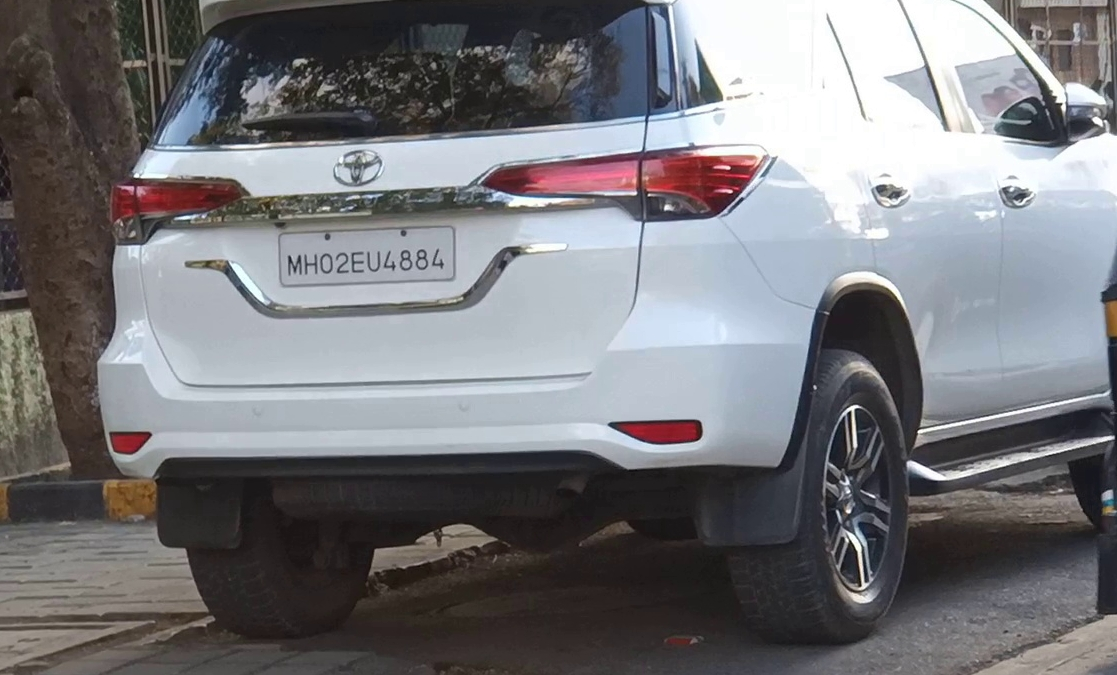MH02EU4884: (278, 224, 455, 287)
